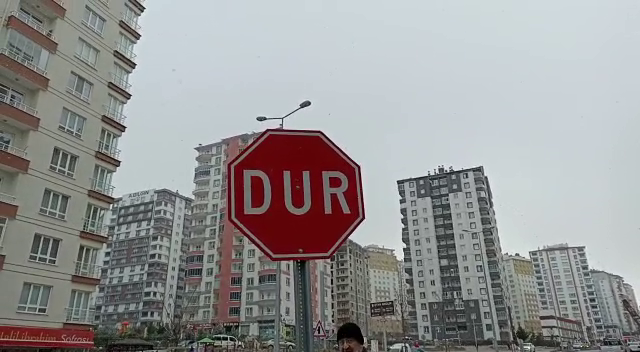stop: (225, 125, 367, 263)
